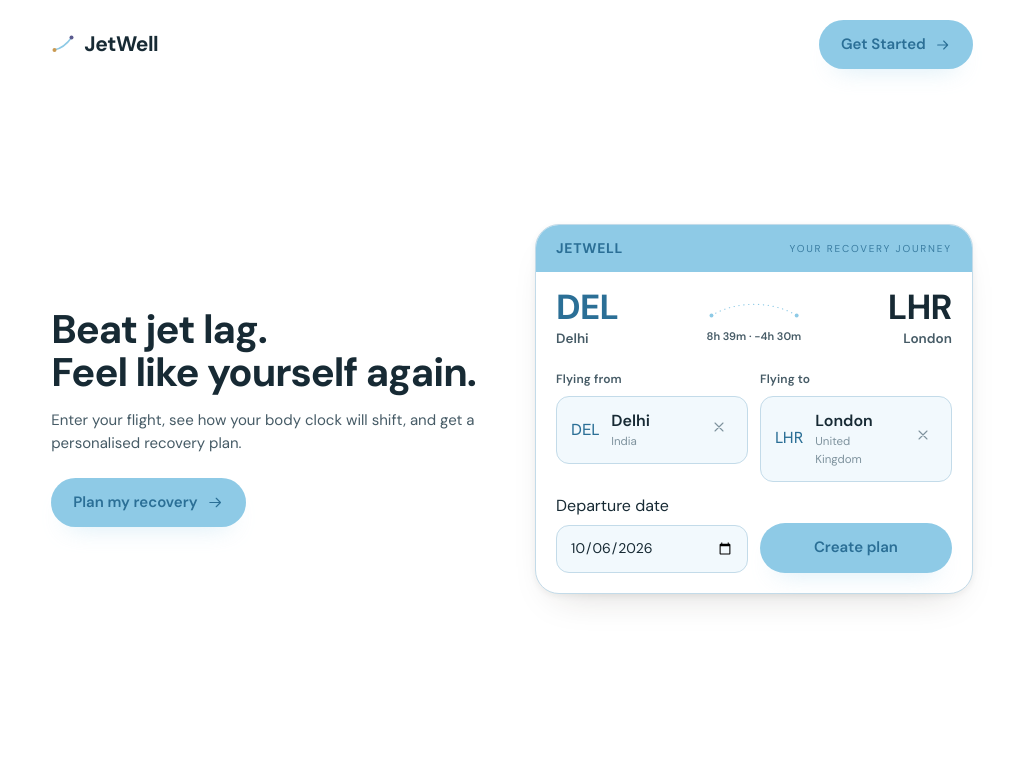
Test: app smoke tests › returns to the landing page from the wordmark
Click the button "Get Started": (896, 45) [819,20,973,69]
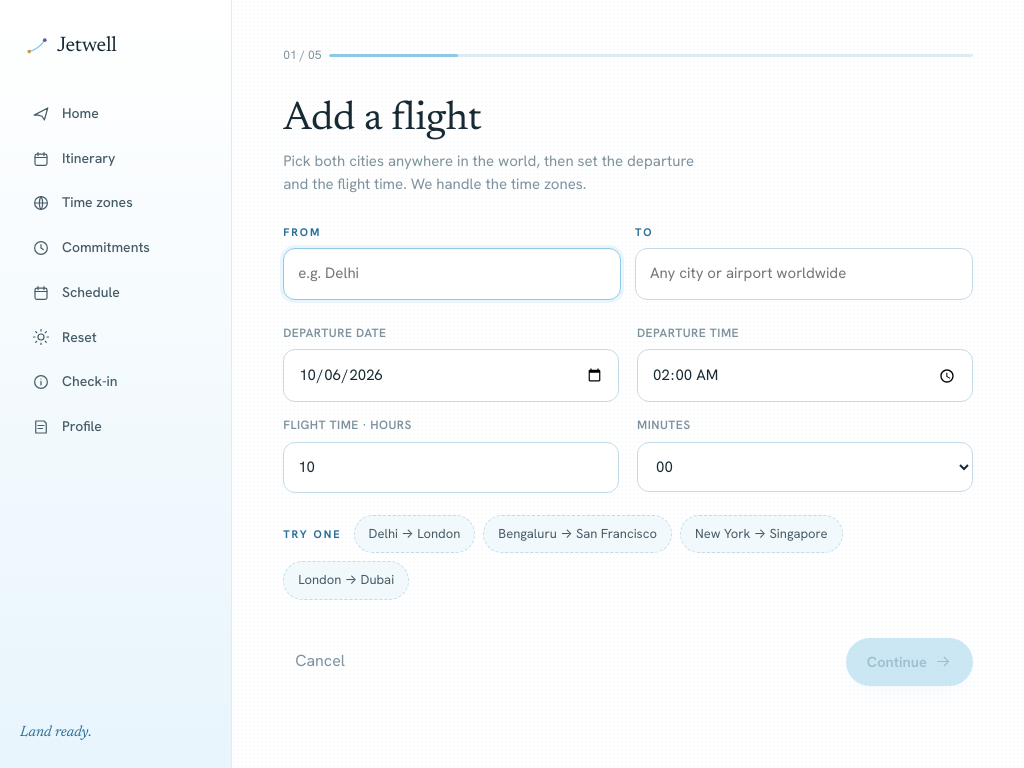
Click the button with aria-label "Jetwell home": (71, 49) [20,30,123,67]
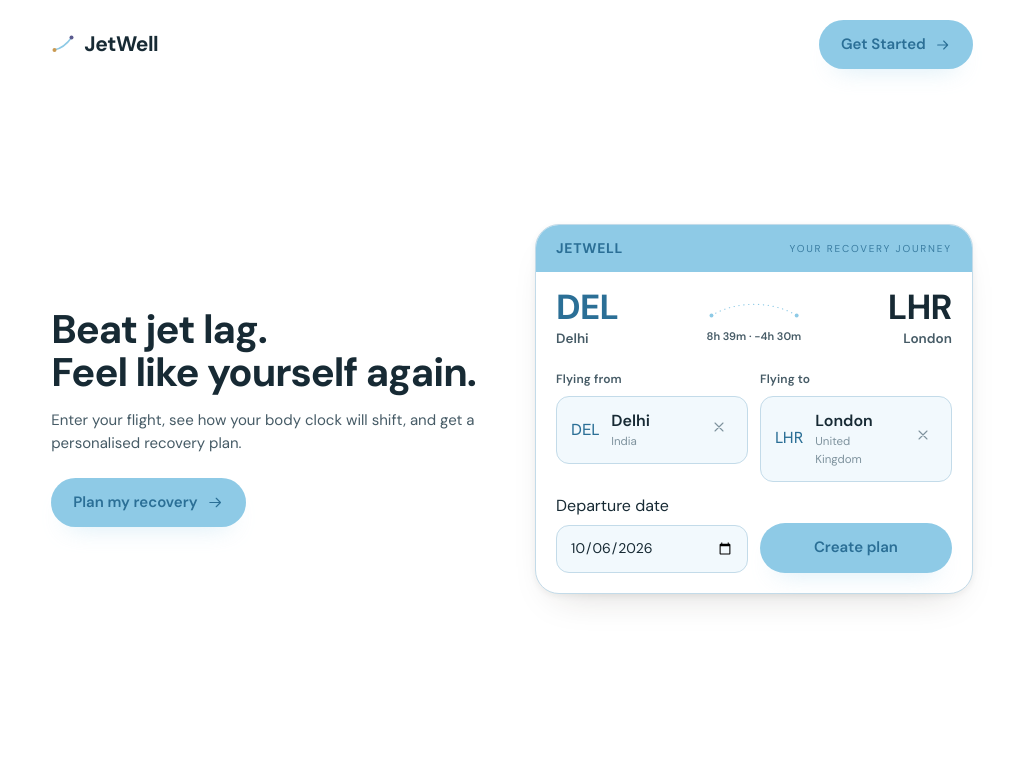
Expected: the heading "Beat jet lag.Feel like yourself again." is shown, [51,308,489,393]
Expected: the text "Enter your flight, see how your body clock" is shown, [51,410,474,453]
